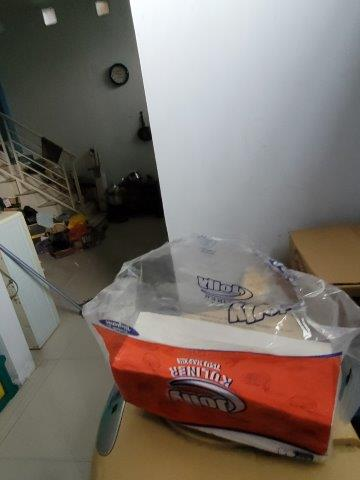plastik: (73, 238, 353, 408)
